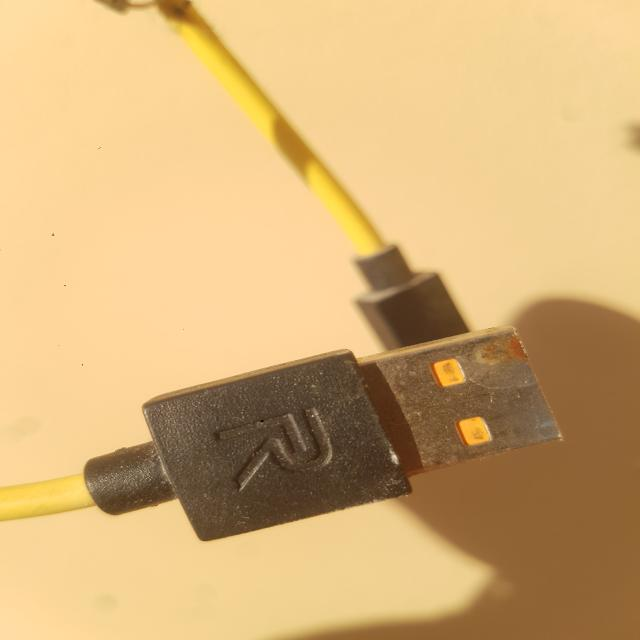electronic: (2, 240, 598, 614)
